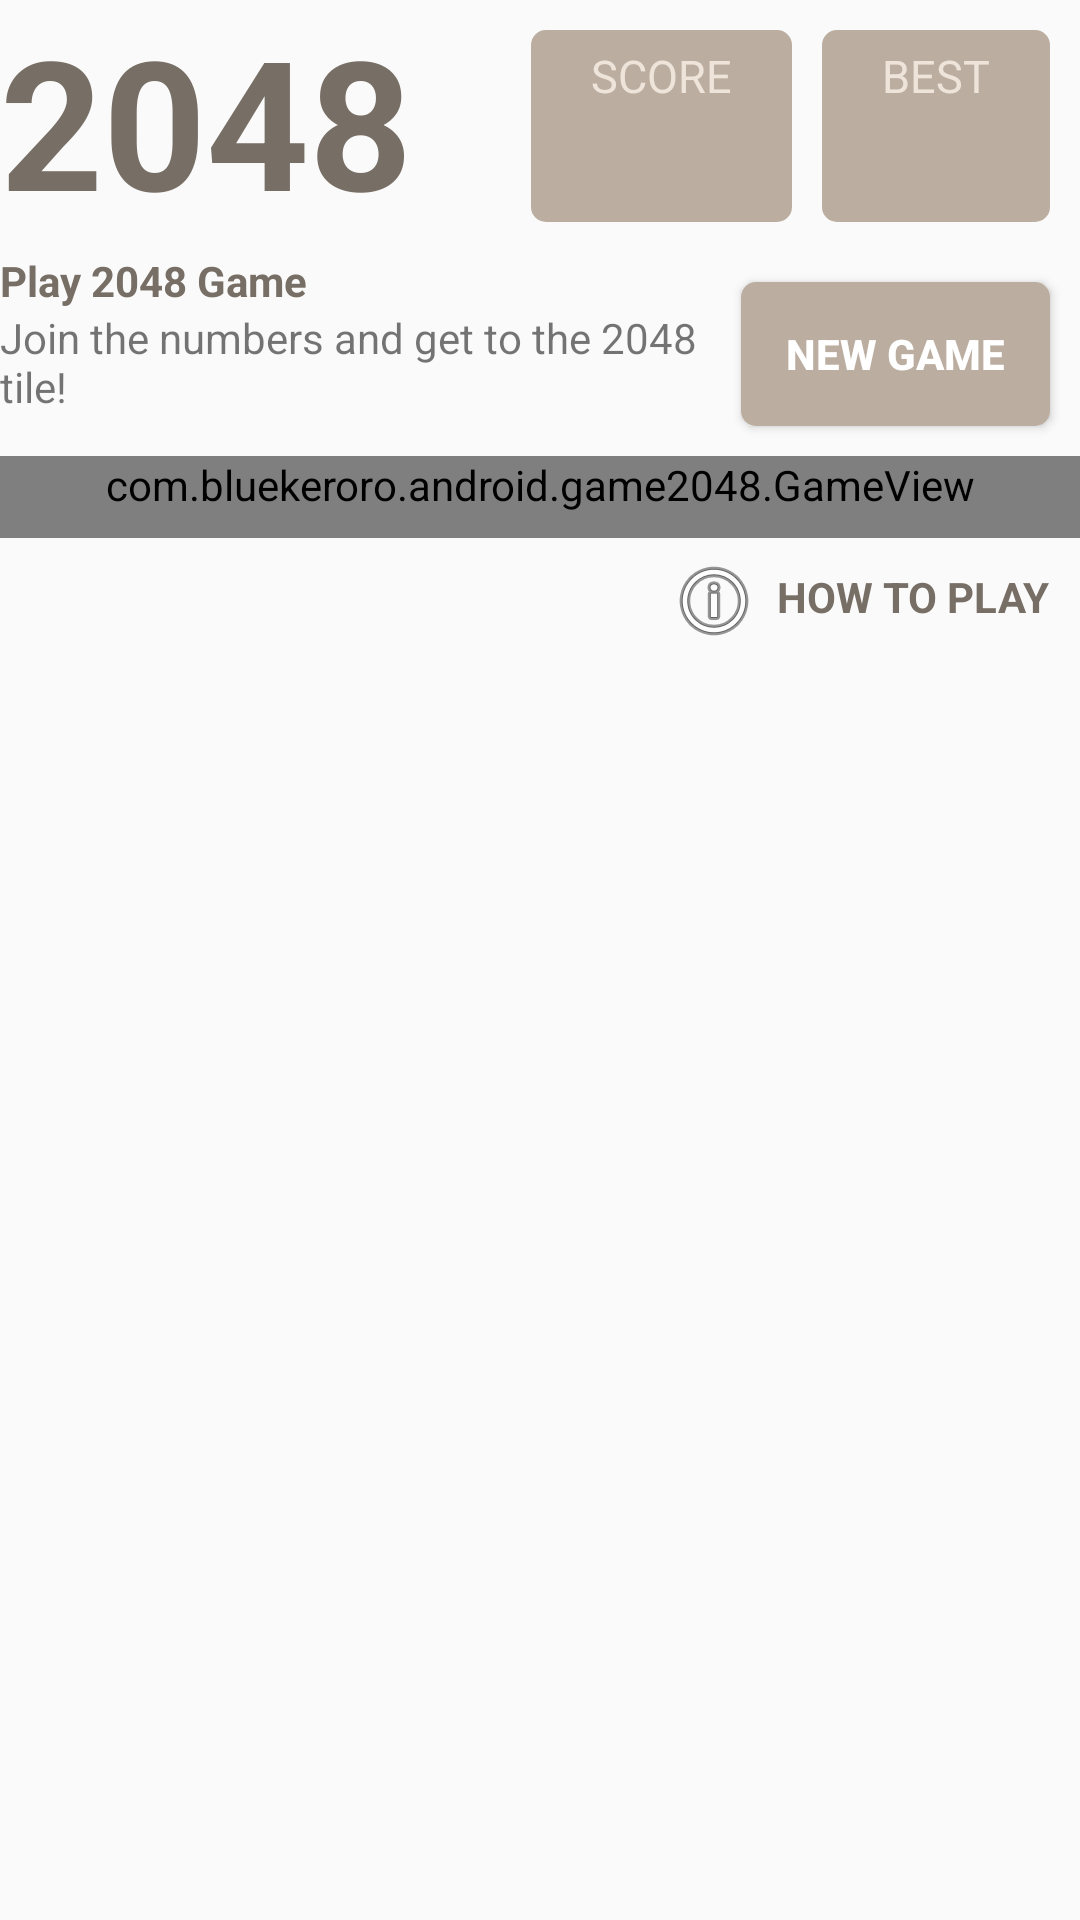

Icon click points for this 1080*1920 phone screenshot, format (x,y):
info details: (714,601)
